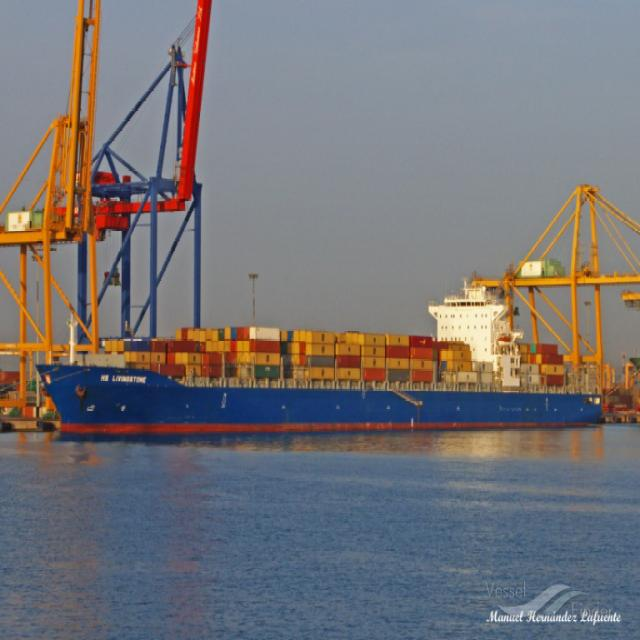Container Ship: (32, 275, 611, 431)
